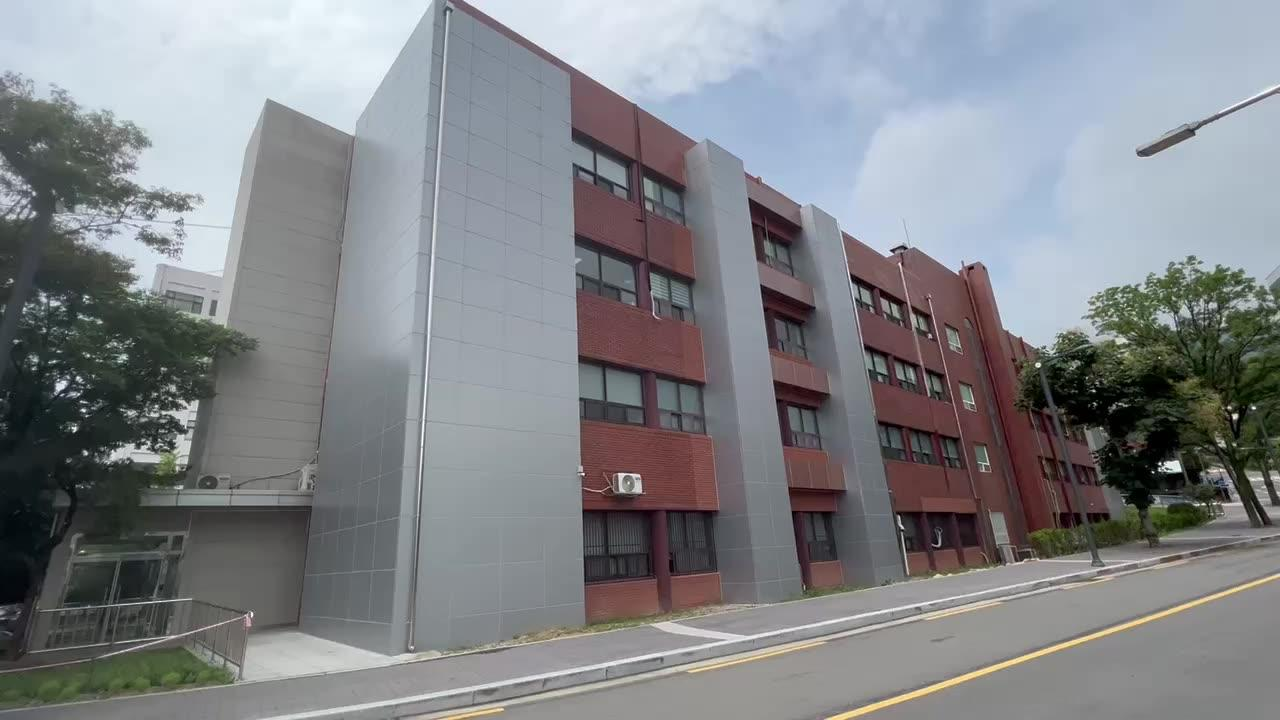building: (263, 12, 1007, 571)
